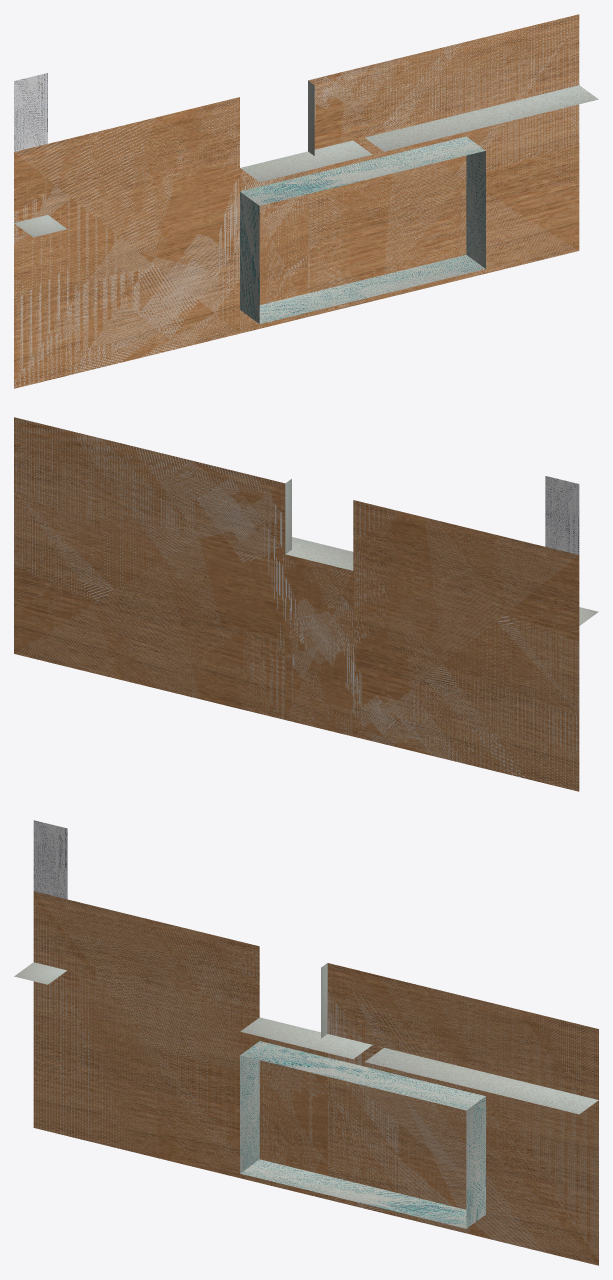
The model's file is etage1.obj.
The picture shows the model from 3 angles, top to bottom: view 1: azimuth 30°, elevation 25°; view 2: azimuth 150°, elevation 25°; view 3: azimuth 330°, elevation 25°; orthographic projection.
Size of the model in its own units: 50 by 26 by 3.
5 materials, 5 textured.
